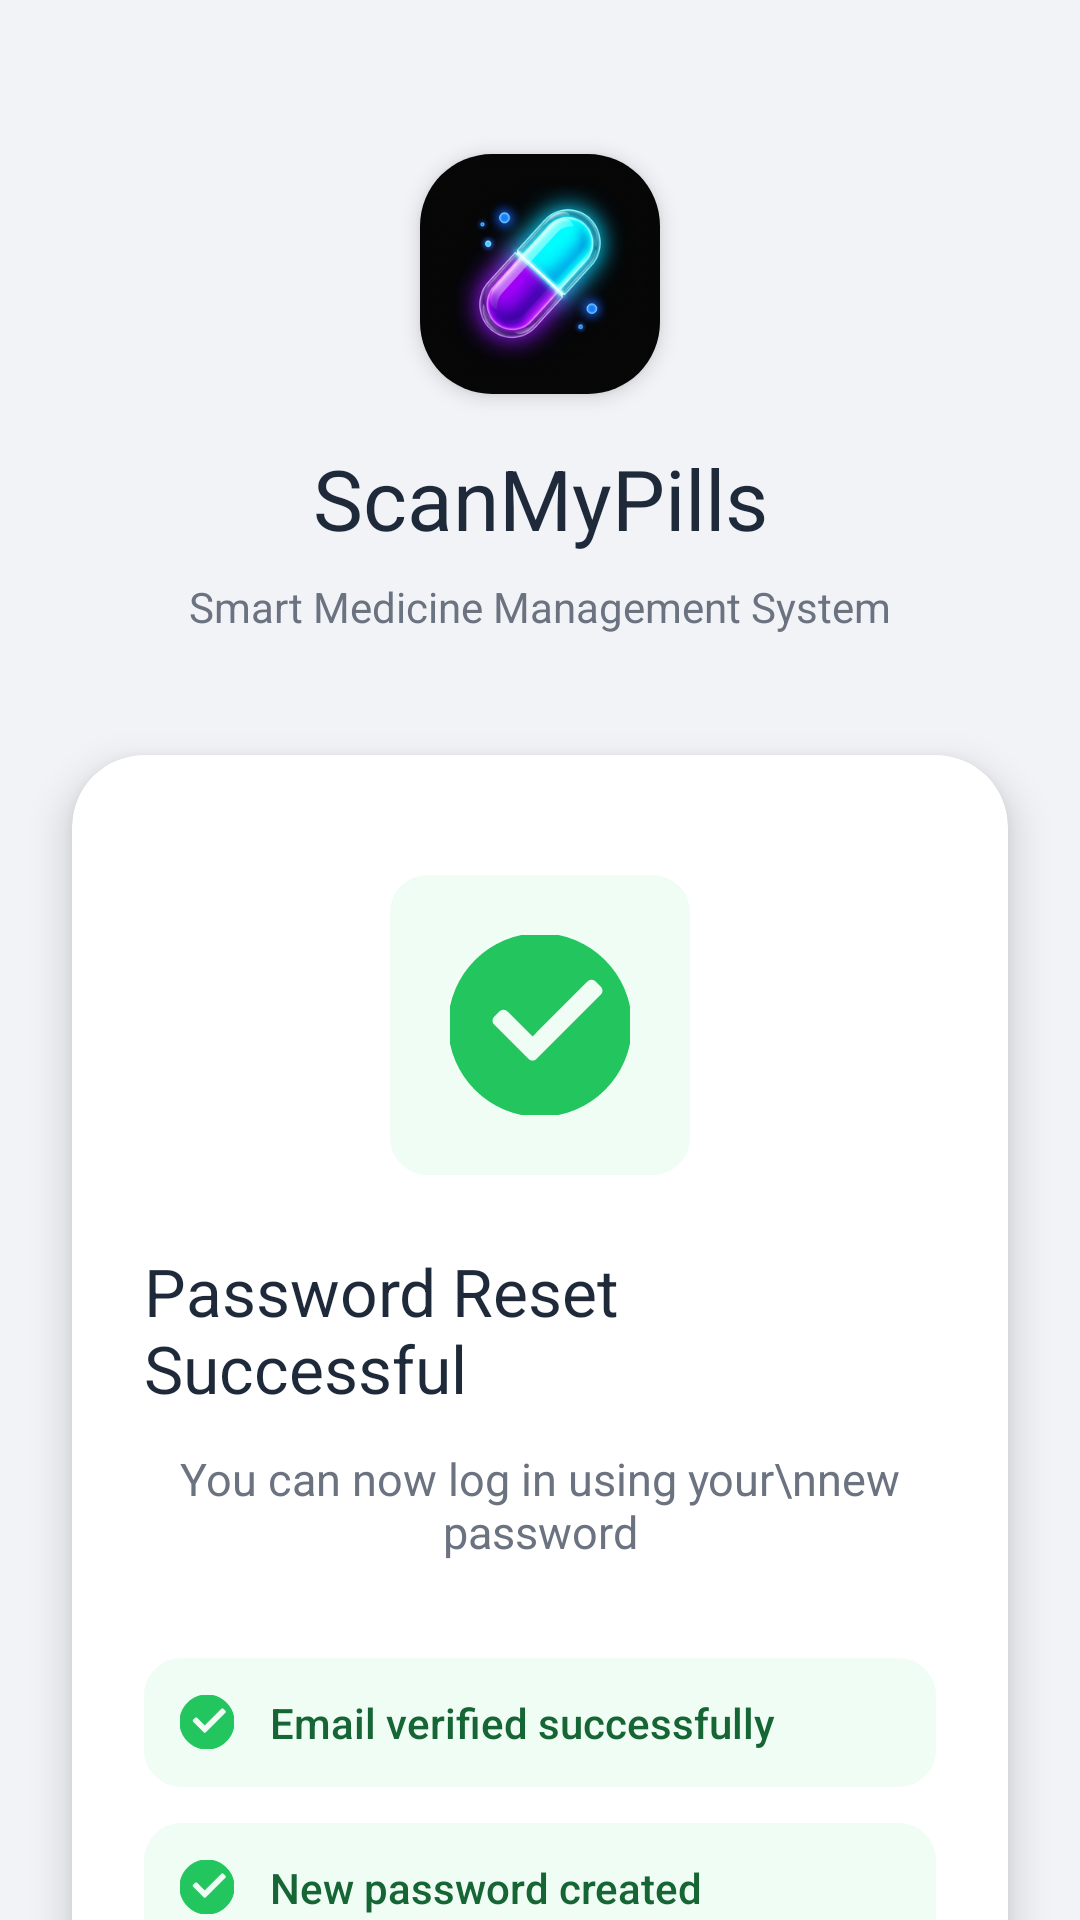

Screen size 1080 x 1920. Icon name, then its box in pixels as Rect(x1, y1, x2, y2):
check circle: Rect(450, 935, 630, 1115), Rect(180, 1695, 234, 1749), Rect(180, 1860, 234, 1914)
